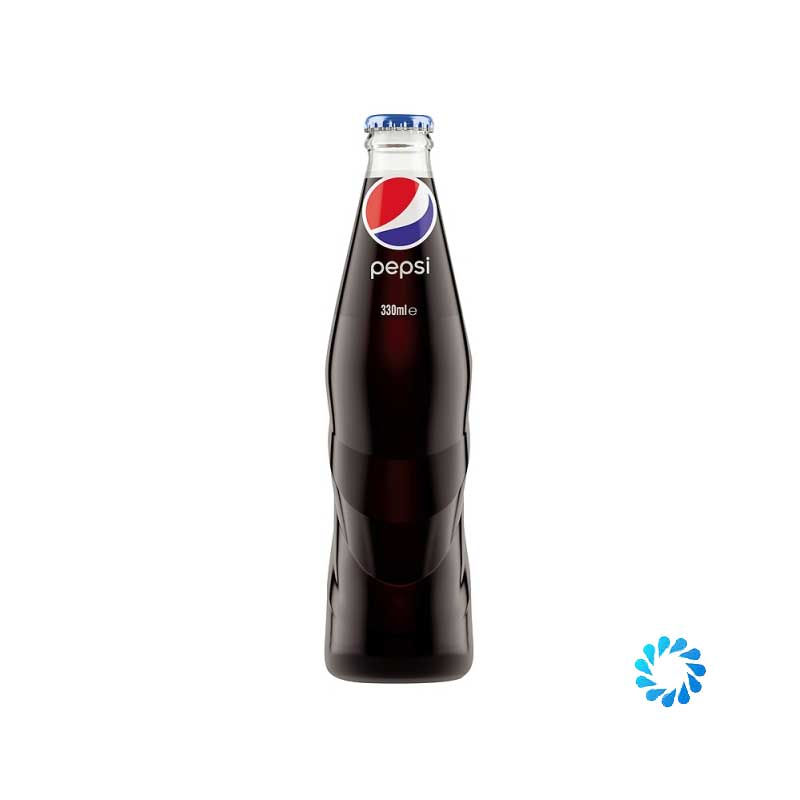pepsi: (364, 173, 436, 248)
